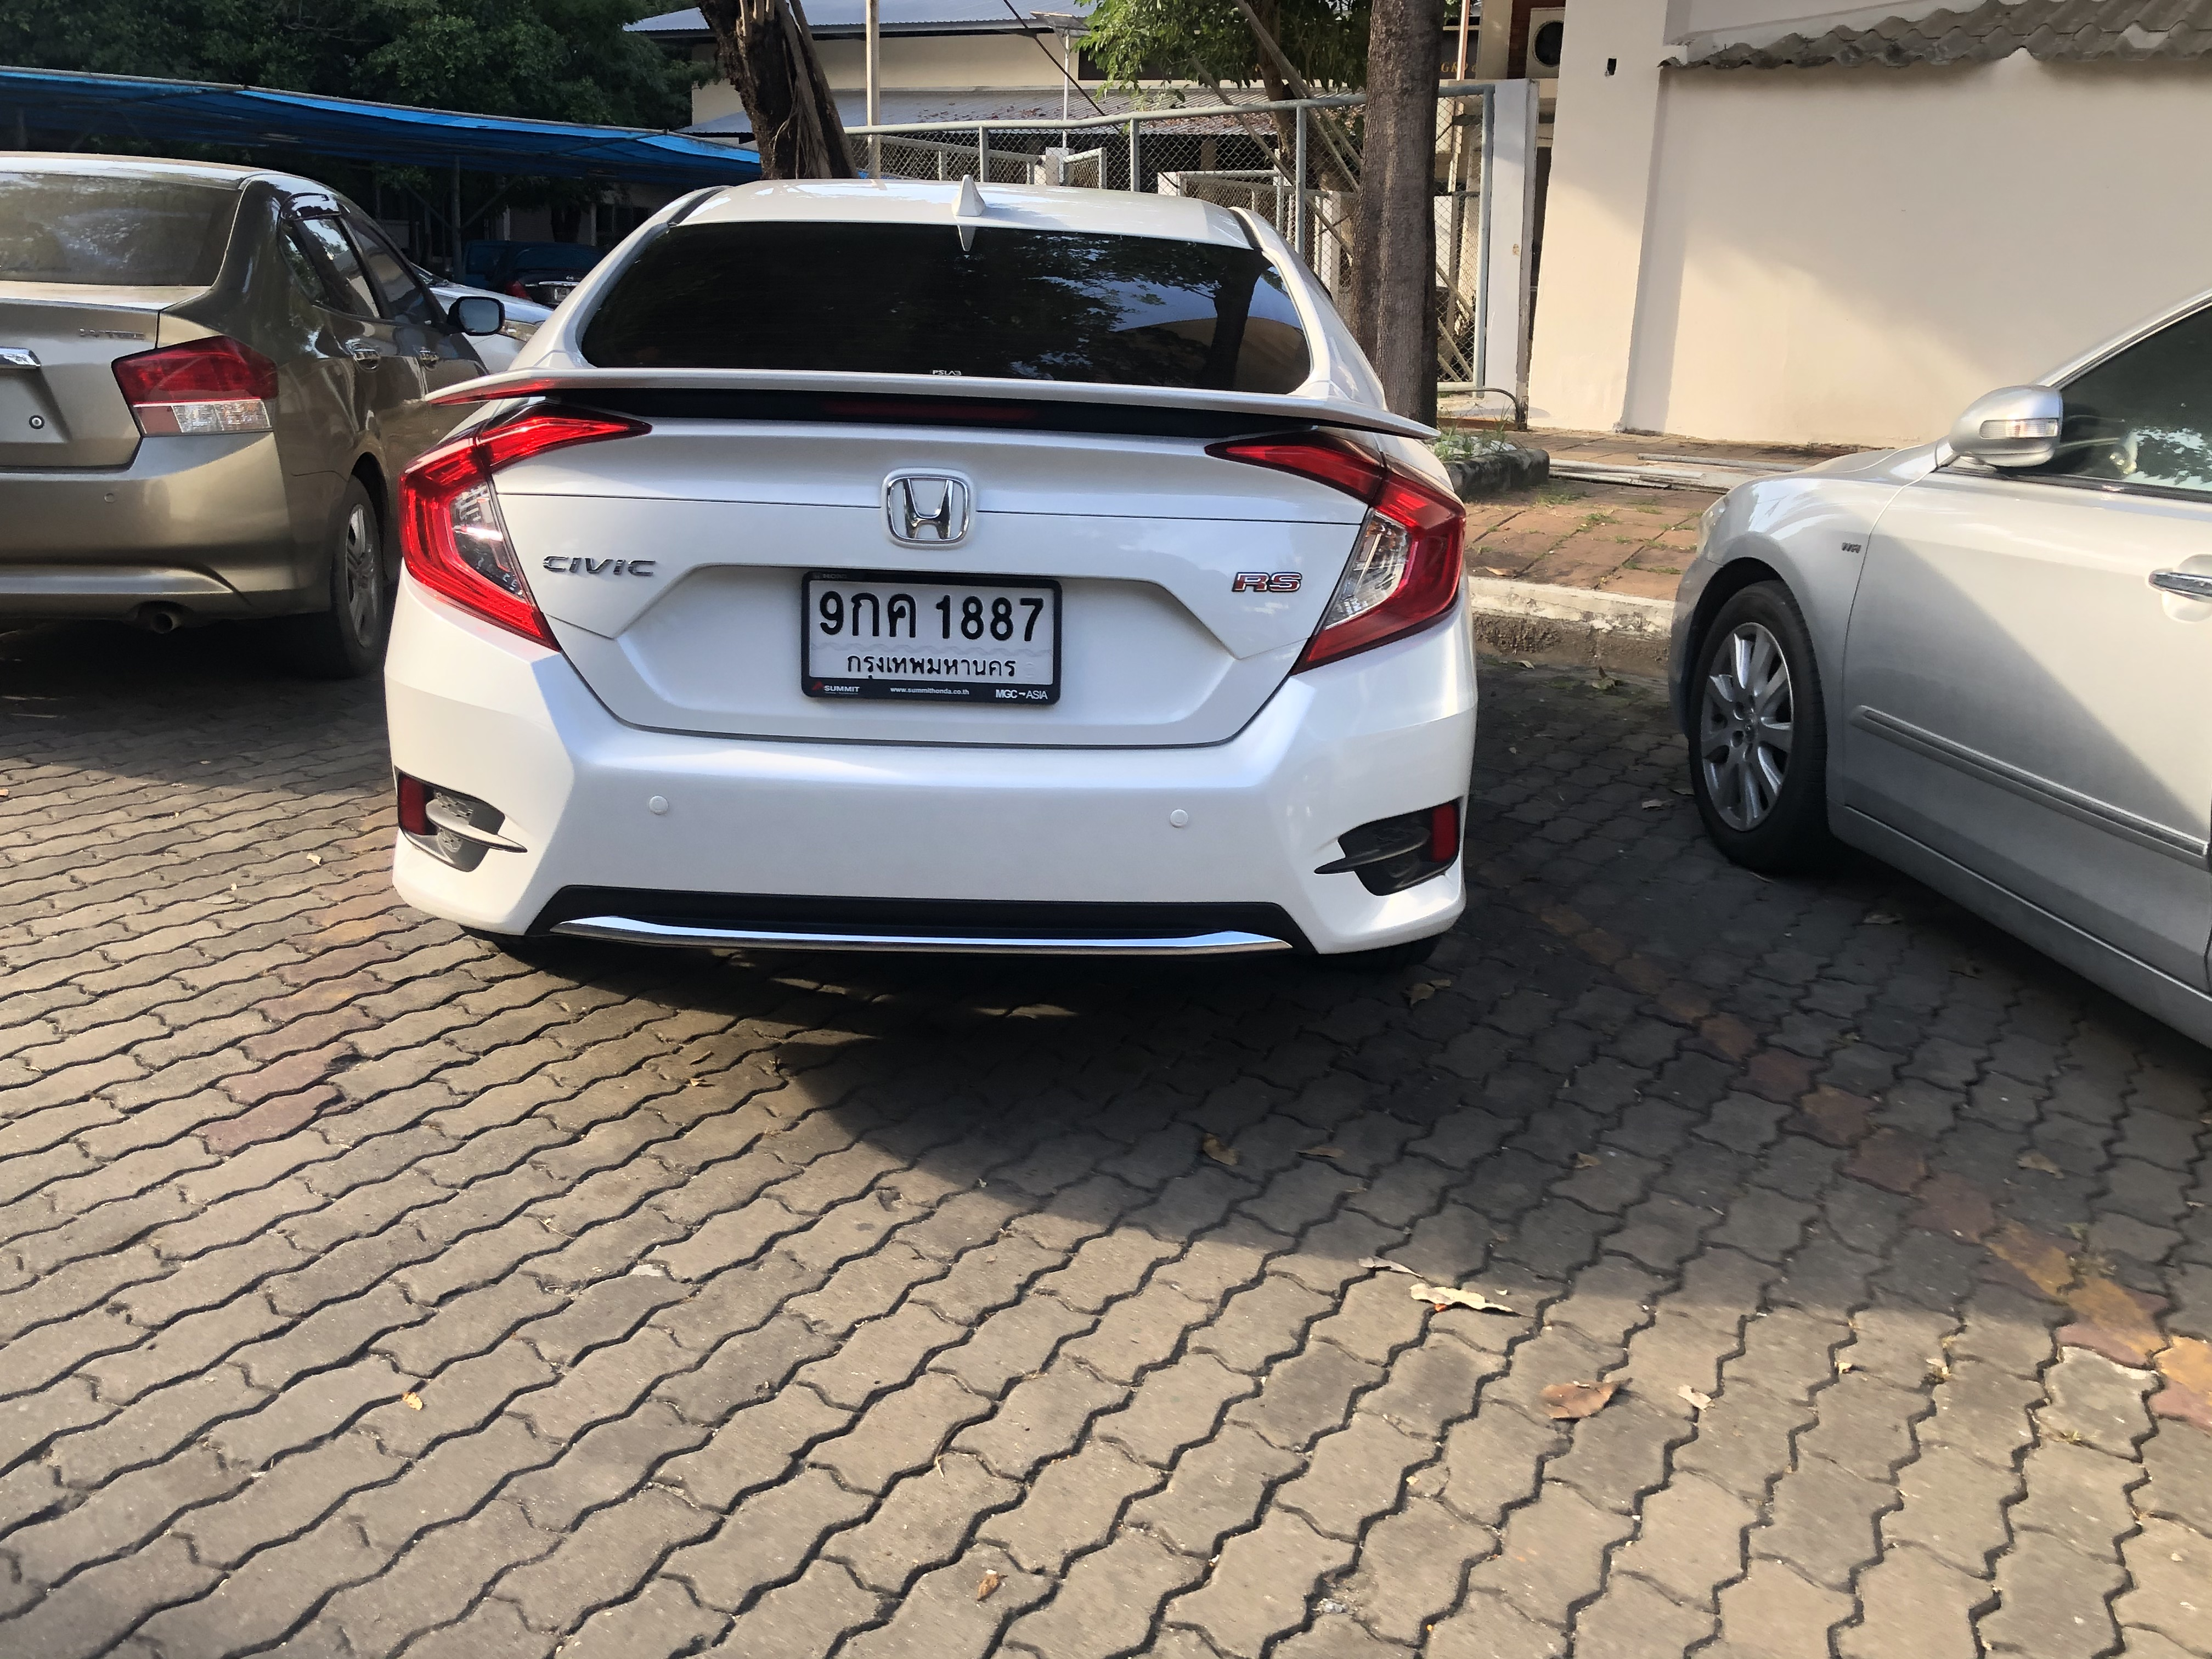in: (812, 586, 1055, 687)
out: (799, 573, 1068, 706)
